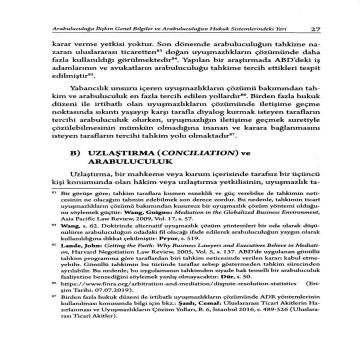footer: (59, 190, 324, 319)
header: (50, 24, 291, 33)
